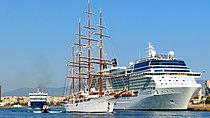Ship: (85, 41, 207, 115)
